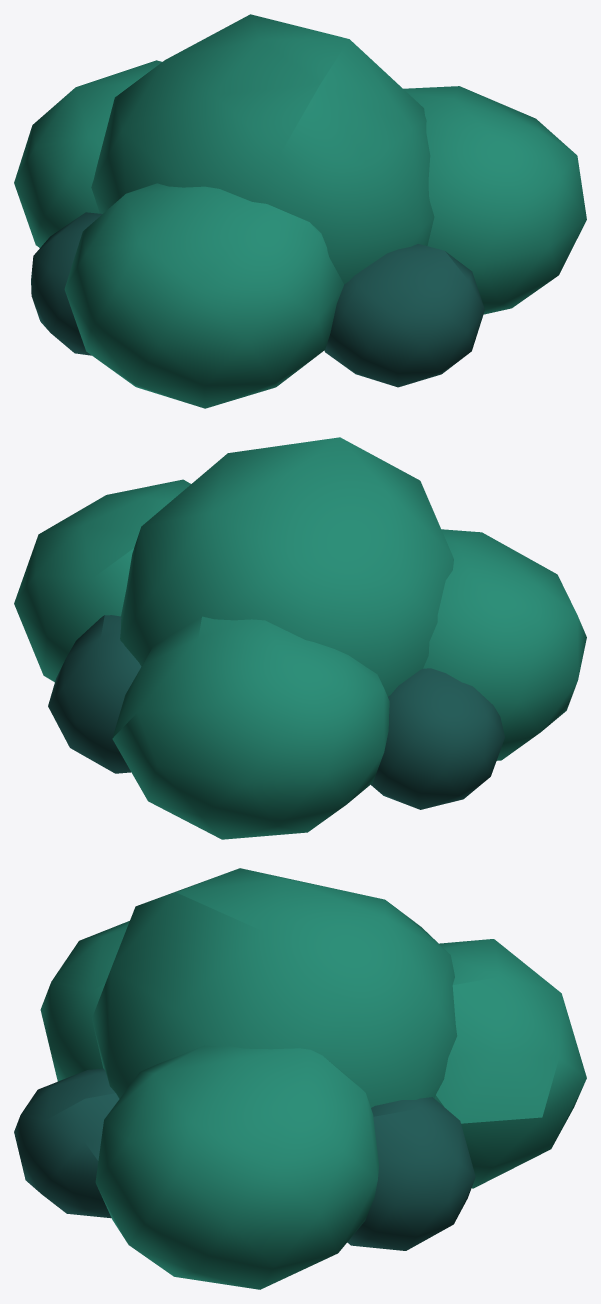
Rendered from Bush.fbx.
3 views of the same model, one above another, from view 1: azimuth 30°, elevation 25°; view 2: azimuth 150°, elevation 25°; view 3: azimuth 270°, elevation 25° (orthographic). The views are drawn at different scales.
Parts seen in each view (by area): view 1: Bush.004; view 2: Bush.004; view 3: Bush.004.
Boxes of the visible parts, bbox=[...] form: Bush.004: bbox=[14, 14, 586, 408]; Bush.004: bbox=[14, 437, 586, 839]; Bush.004: bbox=[14, 868, 586, 1289].
Size of the model in its own units: 486 by 254 by 447.
